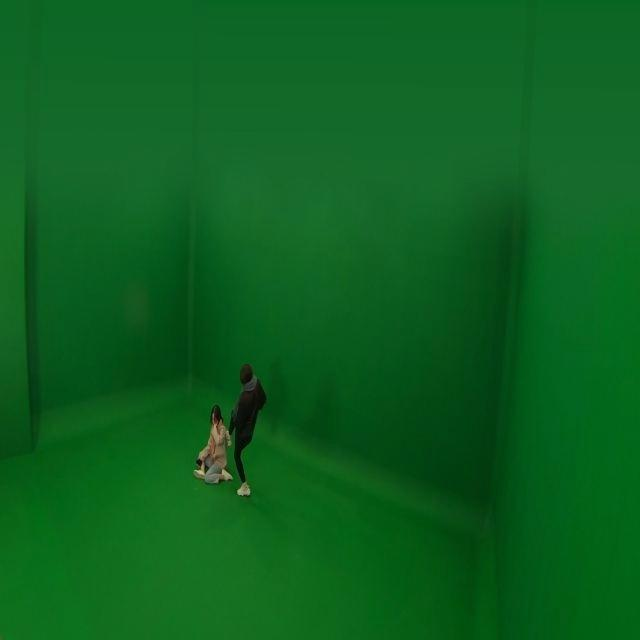fight: (193, 363, 264, 499)
